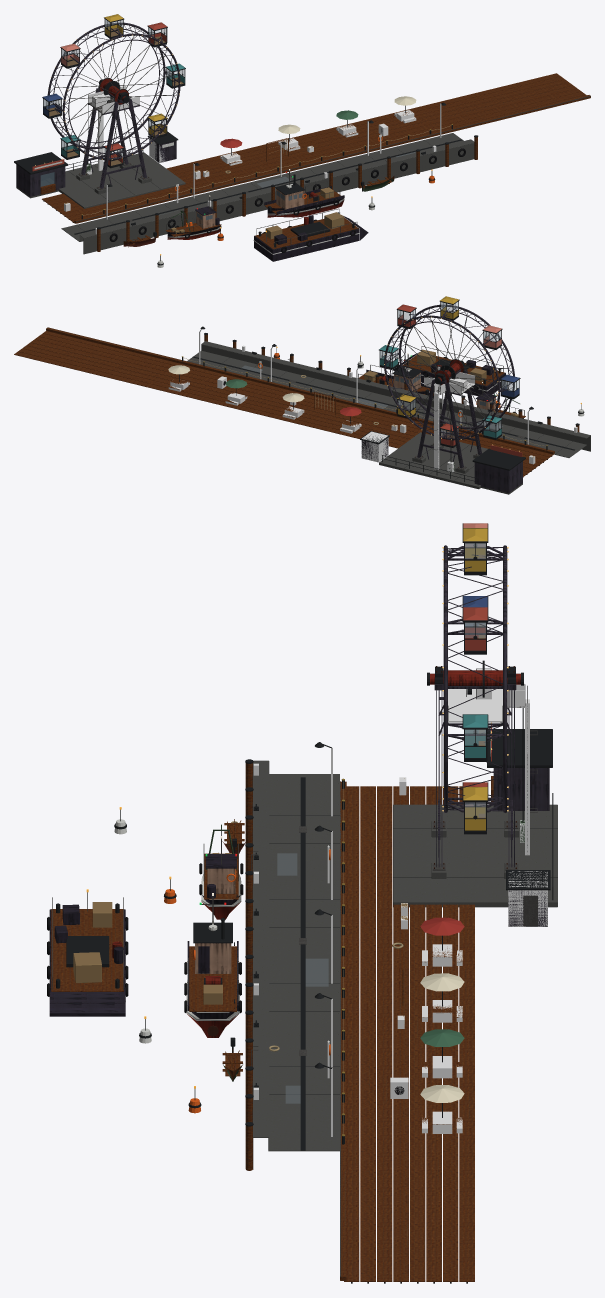
The model's file is ferris-harbor.glb.
3 views of the same model, one above another, from view 1: azimuth 30°, elevation 25°; view 2: azimuth 150°, elevation 25°; view 3: azimuth 270°, elevation 25° (orthographic). The views are drawn at different scales.
Visible parts, largest first — view 1: MESH_FERRIS_HARBOR_DECK_TIMBER_LOD0, MESH_FERRIS_HARBOR_BASE_CONCRETE_SEAWALL_LOD0, MESH_FERRIS_HARBOR_WHEEL_ROOT_STEEL_NAVY_WEATHERED_LOD0, MESH_FERRIS_HARBOR_PALETTE_LOD0, MESH_FERRIS_HARBOR_STEEL_NAVY_WEATHERED_LOD0, MESH_FERRIS_HARBOR_BOAT_BARGE_HULL_NAVY_LOD0, MESH_FERRIS_HARBOR_WHEEL_ROOT_GALVANIZED_LOD0, MESH_FERRIS_HARBOR_BOAT_BARGE_PALETTE_LOD0, MESH_FERRIS_HARBOR_GALVANIZED_LOD0, MESH_FERRIS_HARBOR_BOAT_BARGE_DECK_TIMBER_LOD0, MESH_FERRIS_HARBOR_BOAT_WORKBOAT_PALETTE_LOD0, MESH_FERRIS_HARBOR_BOAT_WORKBOAT_HULL_NAVY_LOD0 (+9 smaller); view 2: MESH_FERRIS_HARBOR_DECK_TIMBER_LOD0, MESH_FERRIS_HARBOR_BASE_CONCRETE_SEAWALL_LOD0, MESH_FERRIS_HARBOR_WHEEL_ROOT_STEEL_NAVY_WEATHERED_LOD0, MESH_FERRIS_HARBOR_PALETTE_LOD0, MESH_FERRIS_HARBOR_STEEL_NAVY_WEATHERED_LOD0, MESH_FERRIS_HARBOR_WHEEL_ROOT_GALVANIZED_LOD0, MESH_FERRIS_HARBOR_BOAT_BARGE_PALETTE_LOD0, MESH_FERRIS_HARBOR_BOAT_BARGE_HULL_NAVY_LOD0, COL_MOVE_FERRIS_HARBOR_KIOSK, MESH_FERRIS_HARBOR_GALVANIZED_LOD0, MESH_FERRIS_HARBOR_BOAT_BARGE_DECK_TIMBER_LOD0, COL_LADDER_FERRIS_HARBOR_HUB_LADDER (+10 smaller); view 3: MESH_FERRIS_HARBOR_DECK_TIMBER_LOD0, MESH_FERRIS_HARBOR_BASE_CONCRETE_SEAWALL_LOD0, MESH_FERRIS_HARBOR_PALETTE_LOD0, MESH_FERRIS_HARBOR_WHEEL_ROOT_STEEL_NAVY_WEATHERED_LOD0, MESH_FERRIS_HARBOR_STEEL_NAVY_WEATHERED_LOD0, MESH_FERRIS_HARBOR_BOAT_BARGE_DECK_TIMBER_LOD0, MESH_FERRIS_HARBOR_BOAT_BARGE_HULL_NAVY_LOD0, MESH_FERRIS_HARBOR_BOAT_BARGE_PALETTE_LOD0, MESH_FERRIS_HARBOR_BOAT_WORKBOAT_PALETTE_LOD0, MESH_FERRIS_HARBOR_GALVANIZED_LOD0, MESH_FERRIS_HARBOR_BOAT_WORKBOAT_DECK_TIMBER_LOD0, COL_MOVE_FERRIS_HARBOR_HUB_DECK (+6 smaller).
Boxes of the visible parts, <box> form: MESH_FERRIS_HARBOR_DECK_TIMBER_LOD0: <box>40,73,590,223</box>; MESH_FERRIS_HARBOR_BASE_CONCRETE_SEAWALL_LOD0: <box>16,133,474,254</box>; MESH_FERRIS_HARBOR_WHEEL_ROOT_STEEL_NAVY_WEATHERED_LOD0: <box>47,22,180,160</box>; MESH_FERRIS_HARBOR_PALETTE_LOD0: <box>14,79,462,234</box>; MESH_FERRIS_HARBOR_STEEL_NAVY_WEATHERED_LOD0: <box>16,85,176,196</box>; MESH_FERRIS_HARBOR_BOAT_BARGE_HULL_NAVY_LOD0: <box>254,215,368,261</box>; MESH_FERRIS_HARBOR_WHEEL_ROOT_GALVANIZED_LOD0: <box>55,33,173,153</box>; MESH_FERRIS_HARBOR_BOAT_BARGE_PALETTE_LOD0: <box>253,212,359,254</box>; MESH_FERRIS_HARBOR_GALVANIZED_LOD0: <box>76,93,590,225</box>; MESH_FERRIS_HARBOR_BOAT_BARGE_DECK_TIMBER_LOD0: <box>255,218,358,249</box>; MESH_FERRIS_HARBOR_BOAT_WORKBOAT_PALETTE_LOD0: <box>267,174,344,215</box>; MESH_FERRIS_HARBOR_BOAT_WORKBOAT_HULL_NAVY_LOD0: <box>264,186,344,214</box>; MESH_FERRIS_HARBOR_DECK_TIMBER_LOD0: <box>14,327,554,476</box>; MESH_FERRIS_HARBOR_BASE_CONCRETE_SEAWALL_LOD0: <box>187,341,590,494</box>; MESH_FERRIS_HARBOR_WHEEL_ROOT_STEEL_NAVY_WEATHERED_LOD0: <box>384,304,514,440</box>; MESH_FERRIS_HARBOR_PALETTE_LOD0: <box>168,326,574,485</box>; MESH_FERRIS_HARBOR_STEEL_NAVY_WEATHERED_LOD0: <box>361,366,522,492</box>; MESH_FERRIS_HARBOR_WHEEL_ROOT_GALVANIZED_LOD0: <box>391,315,506,433</box>; MESH_FERRIS_HARBOR_BOAT_BARGE_PALETTE_LOD0: <box>406,349,501,391</box>; MESH_FERRIS_HARBOR_BOAT_BARGE_HULL_NAVY_LOD0: <box>393,352,505,396</box>; COL_MOVE_FERRIS_HARBOR_KIOSK: <box>361,431,388,462</box>; MESH_FERRIS_HARBOR_GALVANIZED_LOD0: <box>48,327,554,469</box>; MESH_FERRIS_HARBOR_BOAT_BARGE_DECK_TIMBER_LOD0: <box>402,355,504,385</box>; COL_LADDER_FERRIS_HARBOR_HUB_LADDER: <box>434,392,439,469</box>; MESH_FERRIS_HARBOR_DECK_TIMBER_LOD0: <box>340,776,493,1281</box>; MESH_FERRIS_HARBOR_BASE_CONCRETE_SEAWALL_LOD0: <box>252,760,557,1169</box>; MESH_FERRIS_HARBOR_PALETTE_LOD0: <box>255,666,557,1283</box>; MESH_FERRIS_HARBOR_WHEEL_ROOT_STEEL_NAVY_WEATHERED_LOD0: <box>443,545,507,812</box>; MESH_FERRIS_HARBOR_STEEL_NAVY_WEATHERED_LOD0: <box>434,682,549,926</box>; MESH_FERRIS_HARBOR_BOAT_BARGE_DECK_TIMBER_LOD0: <box>51,909,123,991</box>; MESH_FERRIS_HARBOR_BOAT_BARGE_HULL_NAVY_LOD0: <box>49,904,125,1016</box>; MESH_FERRIS_HARBOR_BOAT_BARGE_PALETTE_LOD0: <box>47,902,128,1001</box>; MESH_FERRIS_HARBOR_BOAT_WORKBOAT_PALETTE_LOD0: <box>184,918,241,1020</box>; MESH_FERRIS_HARBOR_GALVANIZED_LOD0: <box>251,668,537,1276</box>; MESH_FERRIS_HARBOR_BOAT_WORKBOAT_DECK_TIMBER_LOD0: <box>189,946,236,1011</box>; COL_MOVE_FERRIS_HARBOR_HUB_DECK: <box>448,689,502,722</box>.
Size of what is drawn, in the model's own units: 73 by 23.54 by 30.96.
Materials: 17 (14 with a texture image).
